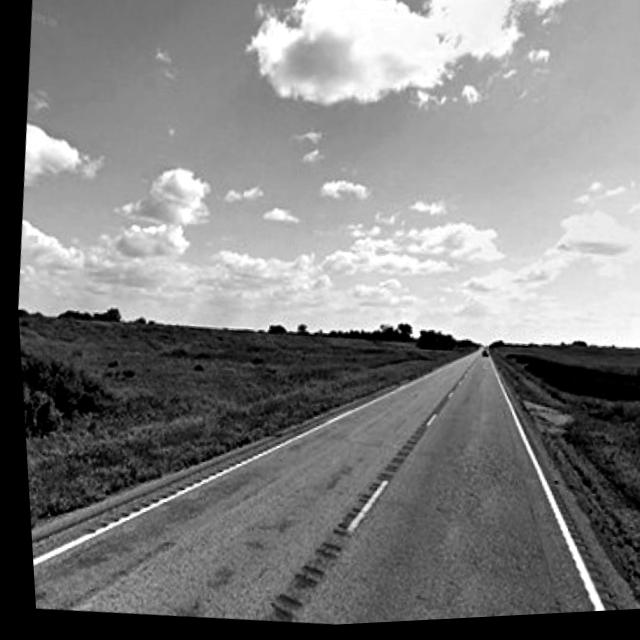cleat: (14, 117, 640, 628)
